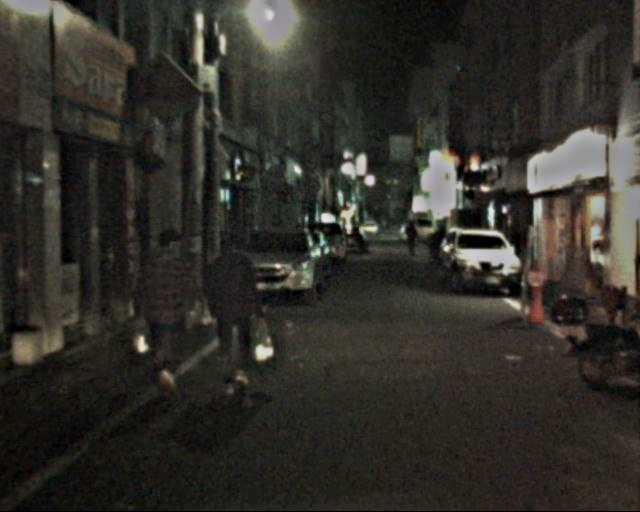person: (200, 234, 269, 396), (133, 228, 202, 387), (403, 219, 419, 257)
